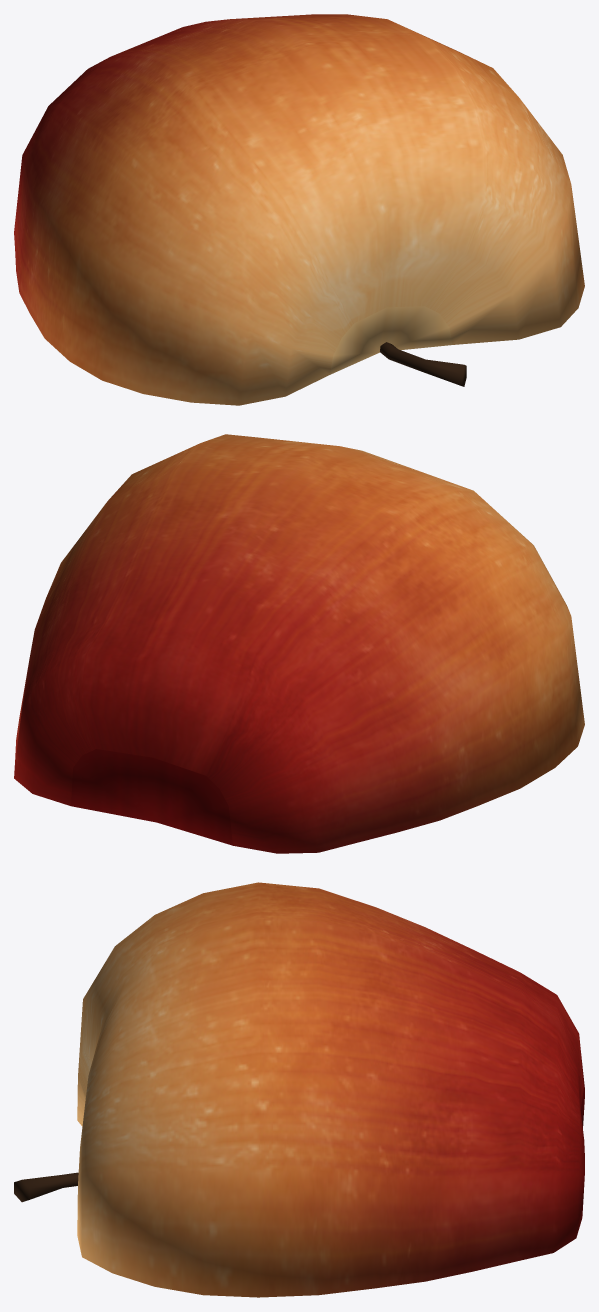
The model's file is halfapple.fbx.
3 views of the same model, one above another, from view 1: azimuth 30°, elevation 25°; view 2: azimuth 150°, elevation 25°; view 3: azimuth 270°, elevation 25° (orthographic).
Parts seen in each view (by area): view 1: Cylinder; view 2: Cylinder; view 3: Cylinder.
Boxes of the visible parts, x1,y1,x2,y2 form: Cylinder: [14, 14, 584, 405]; Cylinder: [14, 434, 584, 853]; Cylinder: [14, 882, 584, 1297].
Size of the model in its own units: 4.67 by 2.41 by 4.72.
